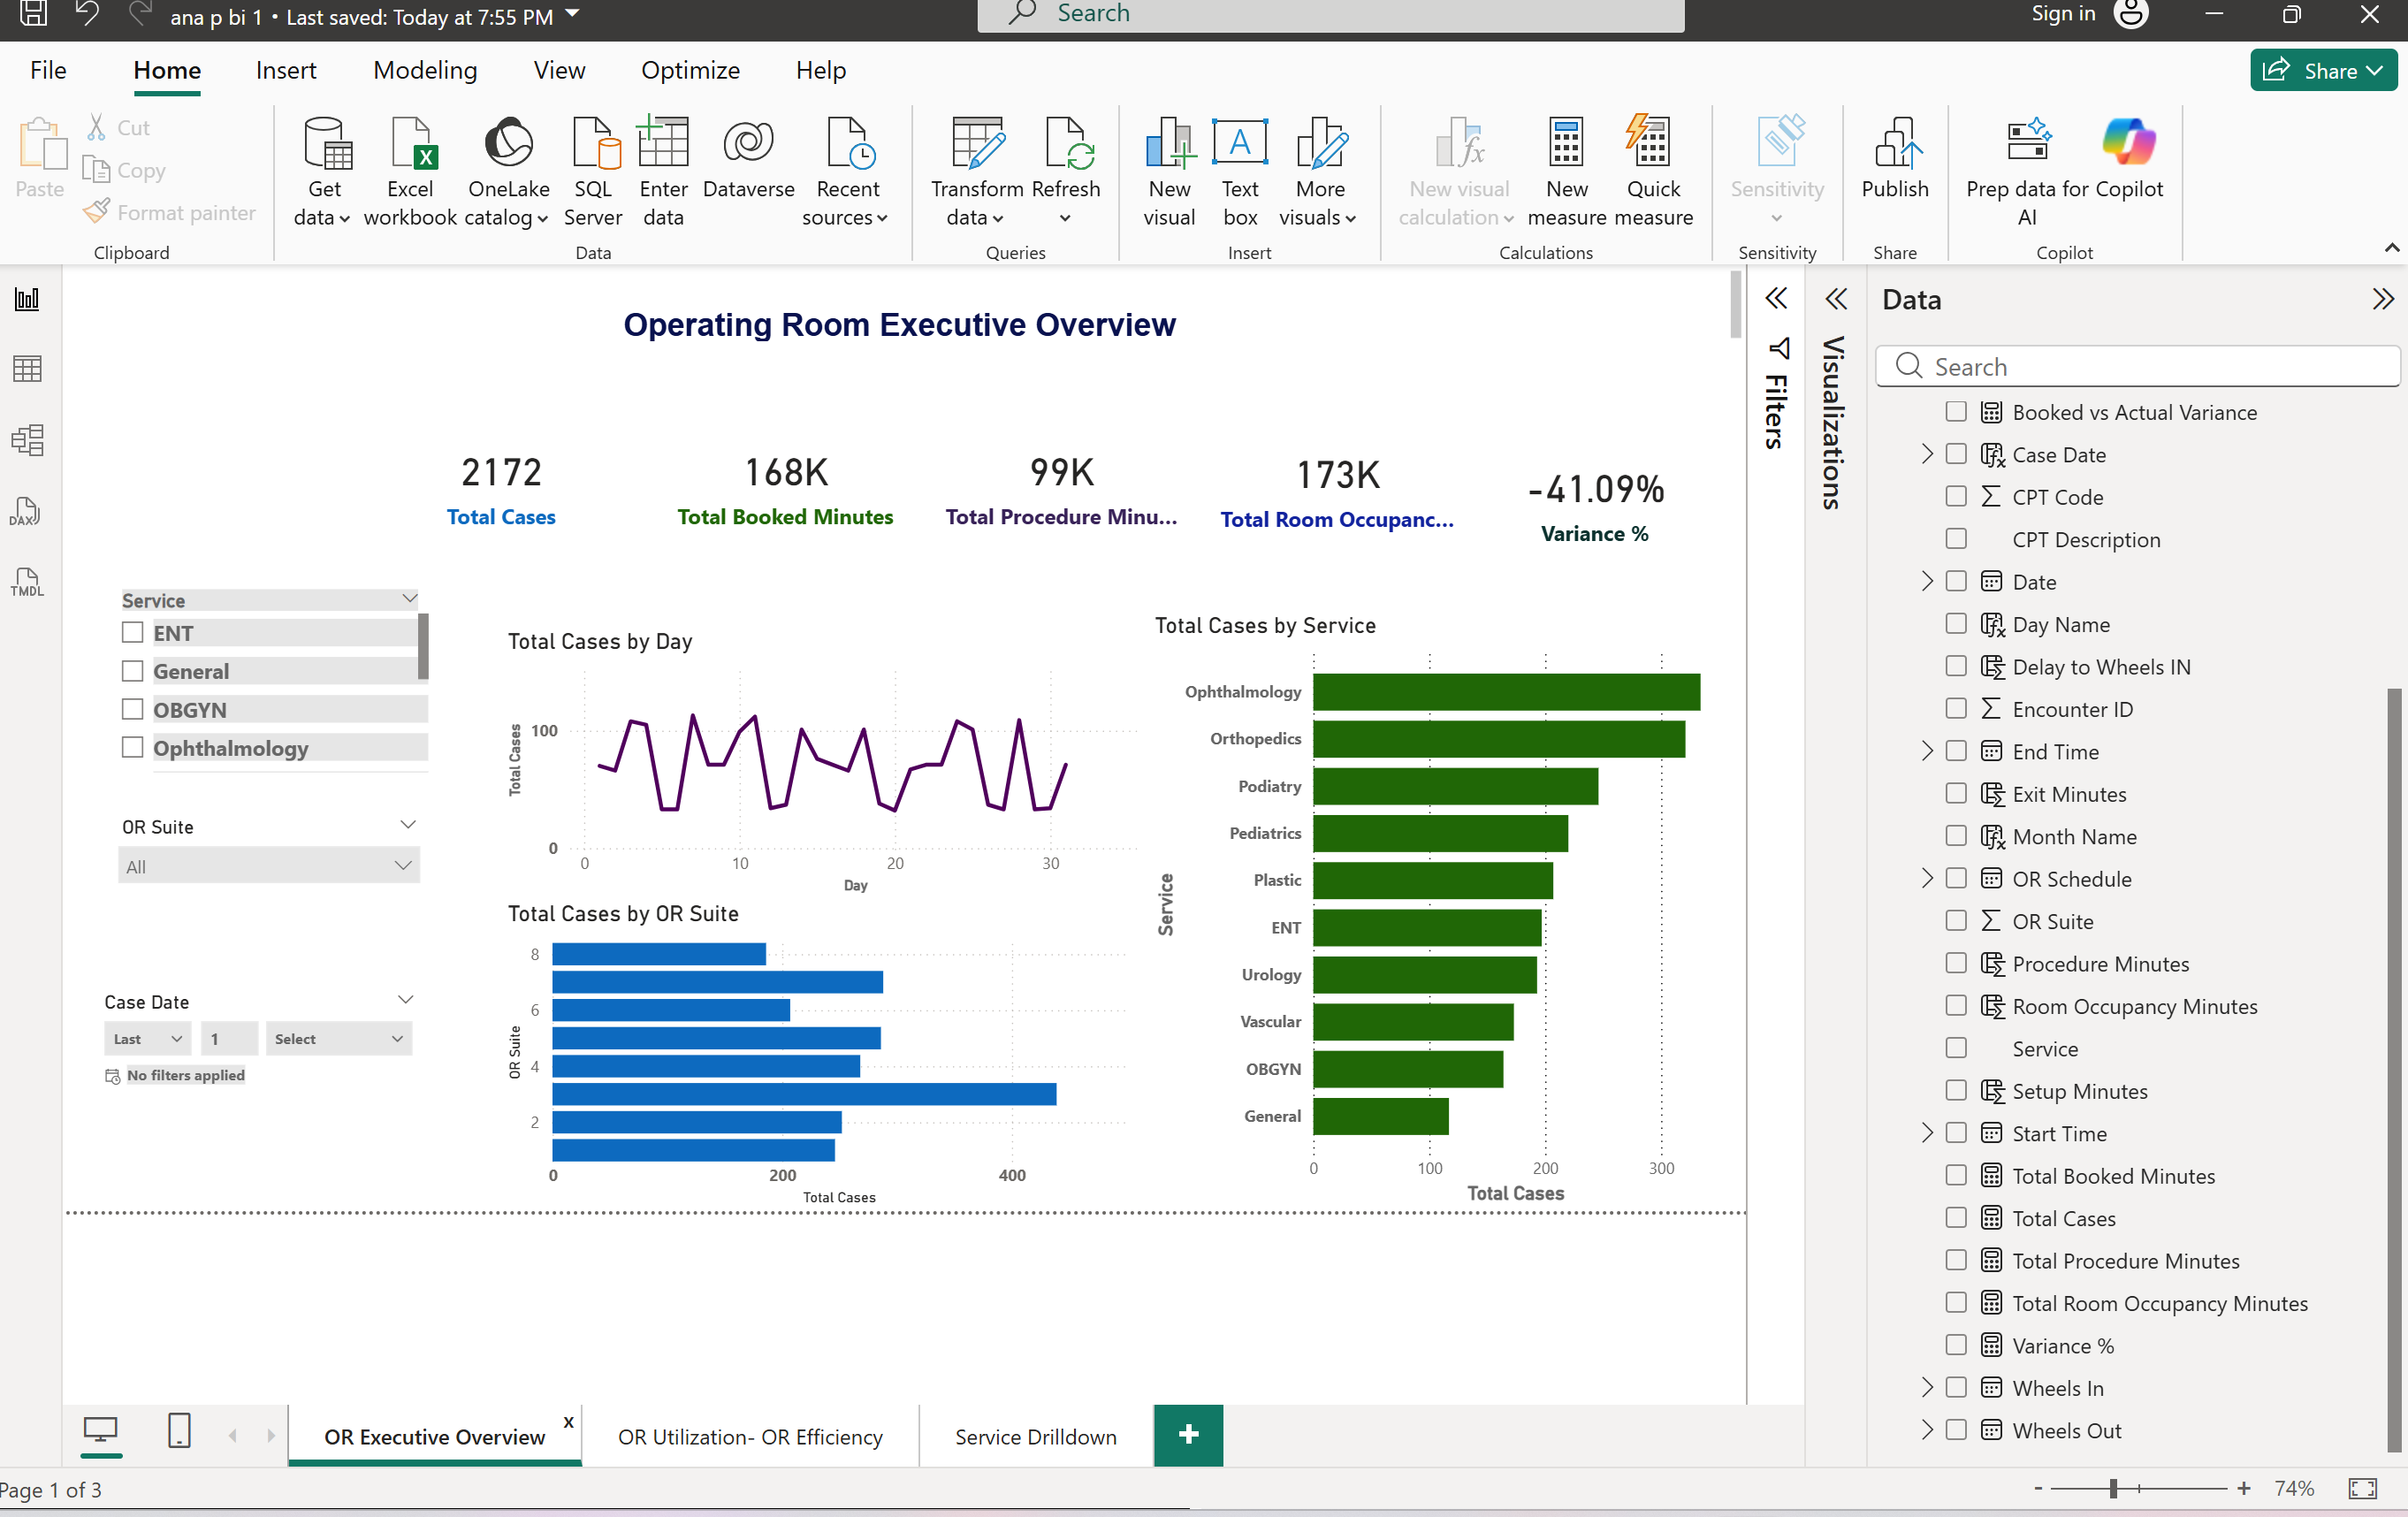

Layout of this report page (visuals, bound fields, positions):
{"tool":"powerbi","page":{"name":"OR Executive Overview","canvas":[1280,720],"ordinal":0},"visuals":[{"type":"card","fields":{"Values":["2022_Q1.Total Cases"]},"box":[232.1,94.8,201.9,145.6],"z":0},{"type":"card","fields":{"Values":["2022_Q1.Total Booked Minutes"]},"box":[434,94.8,230.7,145.6],"z":1000},{"type":"card","fields":{"Values":["2022_Q1.Total Procedure Minutes"]},"box":[664.7,94.8,190.9,145.6],"z":2000},{"type":"card","fields":{"Values":["2022_Q1.Variance %"]},"box":[1052,118.1,228,122.2],"z":3000},{"type":"card","fields":{"Values":["2022_Q1.Total Room Occupancy Minutes"]},"box":[872.1,107.1,193.6,122.2],"z":4000},{"type":"lineChart","fields":{"Y":["2022_Q1.Total Cases"],"Category":["2022_Q1.Case Date.Variation.Date Hierarchy.Year","2022_Q1.Case Date.Variation.Date Hierarchy.Quarter","2022_Q1.Case Date.Variation.Date Hierarchy.Month","2022_Q1.Case Date.Variation.Date Hierarchy.Day"]},"box":[333.7,277.4,491.7,206],"z":5000},{"type":"clusteredBarChart","fields":{"Y":["2022_Q1.Total Cases"],"Category":["2022_Q1.Service"]},"box":[825.4,265.1,449.1,454.6],"z":6000},{"type":"clusteredBarChart","fields":{"Category":["2022_Q1.OR Suite"],"Y":["2022_Q1.Total Cases"]},"box":[333.7,483.4,491.7,236.2],"z":7000},{"type":"textbox","box":[0,0,1281.4,63.2],"z":8000},{"type":"slicer","fields":{"Values":["2022_Q1.Service"]},"box":[31.8,241.4,250.9,149.3],"z":9000},{"type":"slicer","fields":{"Values":["2022_Q1.OR Suite"]},"box":[31.8,414.5,249.3,112.8],"z":10000},{"type":"slicer","fields":{"Values":["2022_Q1.Case Date"]},"box":[19.2,546.6,260.9,129.1],"z":11000}]}

Visuals, with their boxes on the page's 1280x720 design canvas (x1, y1, x2, y2). These are canvas units, not pixel positions in the 2408x1517 screenshot, which may show the page scaled, cropped or inside an application window:
card - 2022_Q1.Total Cases: 232,95,434,240
card - 2022_Q1.Total Booked Minutes: 434,95,665,240
card - 2022_Q1.Total Procedure Minutes: 665,95,856,240
card - 2022_Q1.Variance %: 1052,118,1280,240
card - 2022_Q1.Total Room Occupancy Minutes: 872,107,1066,229
lineChart - 2022_Q1.Total Cases x 2022_Q1.Case Date.Variation.Date Hierarchy.Year: 334,277,825,483
clusteredBarChart - 2022_Q1.Total Cases x 2022_Q1.Service: 825,265,1274,720
clusteredBarChart - 2022_Q1.OR Suite x 2022_Q1.Total Cases: 334,483,825,720
textbox: 0,0,1281,63
slicer - 2022_Q1.Service: 32,241,283,391
slicer - 2022_Q1.OR Suite: 32,414,281,527
slicer - 2022_Q1.Case Date: 19,547,280,676
